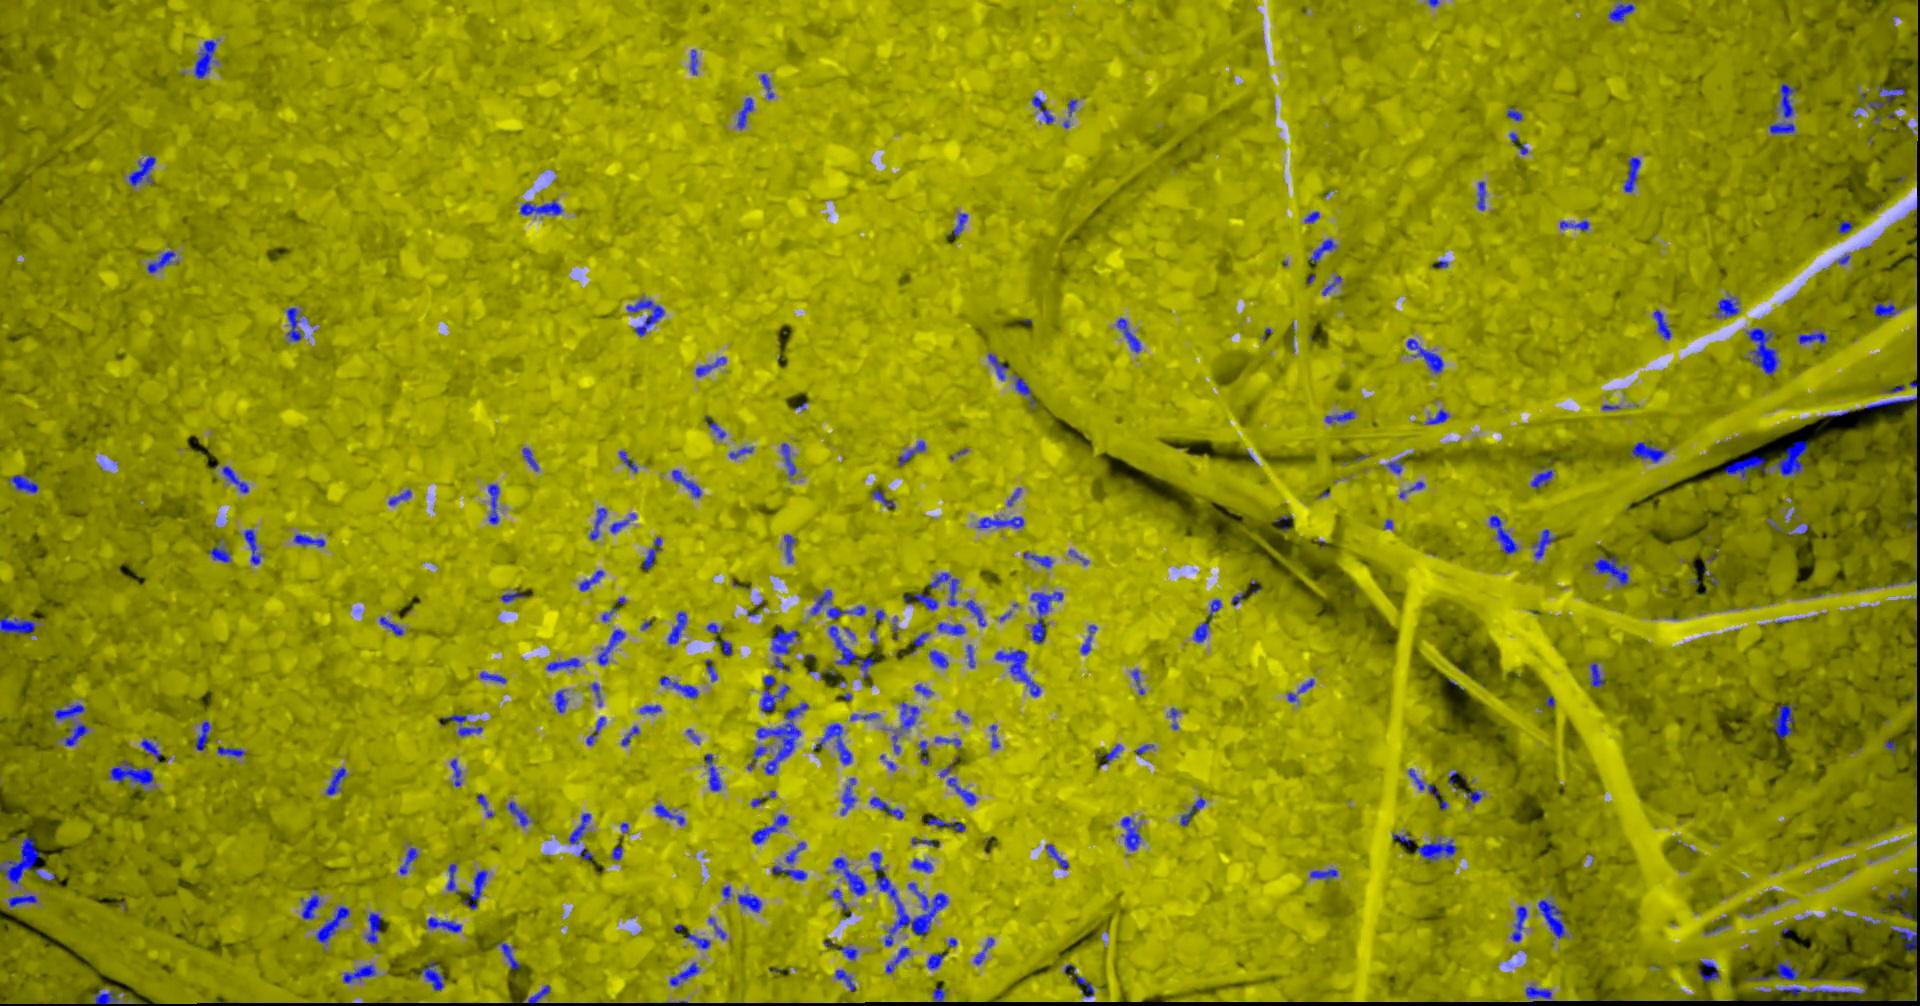ant: (756, 702, 808, 774), (0, 837, 55, 884), (828, 625, 872, 680), (994, 649, 1040, 696), (1745, 326, 1779, 375), (1030, 591, 1062, 643), (813, 723, 851, 763), (626, 298, 664, 337), (1862, 395, 1919, 420), (1769, 83, 1796, 133), (1406, 338, 1443, 373), (832, 857, 866, 895), (770, 625, 797, 671), (315, 906, 349, 942), (1774, 439, 1807, 475), (108, 760, 152, 785), (759, 674, 789, 713), (1490, 514, 1517, 554), (1592, 555, 1628, 586), (750, 814, 787, 843), (1537, 899, 1564, 937), (1743, 962, 1799, 981), (596, 629, 625, 664), (462, 869, 488, 909), (928, 572, 957, 606), (193, 39, 218, 77), (1724, 455, 1765, 478), (442, 714, 483, 735), (659, 676, 697, 699), (670, 469, 701, 497), (1408, 768, 1439, 796), (1415, 840, 1457, 860), (1868, 86, 1905, 109), (1116, 318, 1140, 352), (128, 155, 155, 185), (1770, 704, 1793, 738), (869, 796, 903, 819), (1630, 441, 1666, 462), (947, 777, 975, 804), (1180, 796, 1205, 826), (1531, 528, 1556, 559), (568, 812, 590, 843), (1890, 927, 1916, 954), (222, 465, 248, 493), (495, 941, 519, 970), (420, 960, 444, 989), (641, 536, 662, 570), (654, 803, 684, 826), (1120, 815, 1140, 850), (898, 439, 924, 465), (0, 615, 36, 634), (703, 753, 721, 791), (924, 815, 965, 832), (669, 962, 698, 984), (519, 199, 563, 215), (146, 250, 177, 272), (1777, 987, 1862, 995), (695, 356, 726, 376), (1308, 238, 1335, 262), (885, 946, 909, 973), (243, 528, 260, 564), (902, 591, 937, 608), (342, 964, 375, 983), (1623, 158, 1641, 192), (1510, 904, 1526, 941), (667, 611, 686, 643), (1031, 95, 1053, 123), (977, 514, 1023, 527), (63, 721, 88, 746), (1652, 309, 1671, 339), (841, 777, 856, 815), (1045, 843, 1068, 869), (987, 353, 1008, 380), (964, 600, 985, 626), (973, 937, 994, 964), (325, 767, 345, 795), (1015, 375, 1034, 404), (585, 716, 604, 746), (825, 605, 865, 619), (578, 569, 603, 591), (286, 307, 302, 340), (8, 474, 38, 492), (771, 865, 806, 880), (425, 917, 461, 932), (900, 701, 919, 729), (737, 97, 753, 128), (589, 507, 606, 539), (1098, 743, 1121, 766), (809, 589, 830, 614), (610, 513, 635, 533), (1608, 3, 1634, 22), (1079, 624, 1096, 654), (53, 702, 84, 719), (364, 912, 381, 942), (703, 415, 725, 438), (507, 801, 527, 826), (300, 894, 319, 920), (399, 847, 417, 874), (1717, 296, 1738, 318), (140, 738, 161, 760), (783, 841, 805, 862), (781, 443, 795, 476), (378, 616, 403, 635), (737, 893, 761, 912), (545, 657, 580, 669), (684, 930, 710, 948), (488, 484, 499, 523), (1022, 551, 1051, 567), (1530, 467, 1552, 488), (1697, 960, 1718, 981), (834, 969, 855, 991), (527, 984, 549, 1005), (949, 213, 968, 236), (618, 450, 637, 473), (747, 746, 766, 768), (293, 533, 324, 547), (1398, 481, 1423, 498), (1525, 984, 1550, 1001), (93, 988, 118, 1005), (910, 631, 930, 653), (871, 489, 894, 507), (830, 888, 848, 911), (1425, 408, 1449, 424), (196, 721, 210, 749), (1309, 868, 1337, 882), (759, 72, 775, 98), (1321, 276, 1341, 295), (1870, 302, 1896, 318), (1589, 662, 1604, 687), (446, 862, 458, 893), (709, 917, 726, 939), (926, 951, 947, 969), (1076, 976, 1093, 997), (522, 447, 538, 470), (389, 489, 411, 506), (1324, 410, 1354, 423), (928, 649, 949, 667), (621, 725, 639, 746), (1192, 620, 1209, 641), (836, 942, 857, 959), (8, 894, 36, 907), (937, 622, 964, 635), (479, 671, 505, 683), (554, 688, 568, 713), (1797, 332, 1826, 343), (216, 746, 245, 757), (208, 546, 230, 561), (910, 857, 932, 873), (783, 533, 795, 561), (450, 758, 461, 786), (1131, 669, 1144, 694), (1559, 220, 1589, 230), (728, 447, 753, 459), (500, 591, 524, 602), (918, 741, 930, 763), (1476, 180, 1484, 210), (935, 735, 960, 746), (1297, 678, 1313, 694), (1208, 600, 1222, 617), (910, 837, 938, 846), (705, 659, 716, 681), (590, 682, 601, 706), (1506, 105, 1523, 119), (1385, 459, 1402, 473), (706, 622, 723, 636), (914, 683, 932, 696), (850, 713, 879, 720), (1392, 833, 1413, 843), (990, 724, 999, 748), (579, 847, 592, 862), (639, 704, 660, 713), (1170, 708, 1178, 729), (1464, 790, 1481, 801), (690, 50, 697, 74), (1837, 220, 1851, 232), (1304, 211, 1319, 222), (966, 644, 974, 667), (721, 639, 731, 655), (932, 987, 943, 1001), (611, 846, 622, 859)
